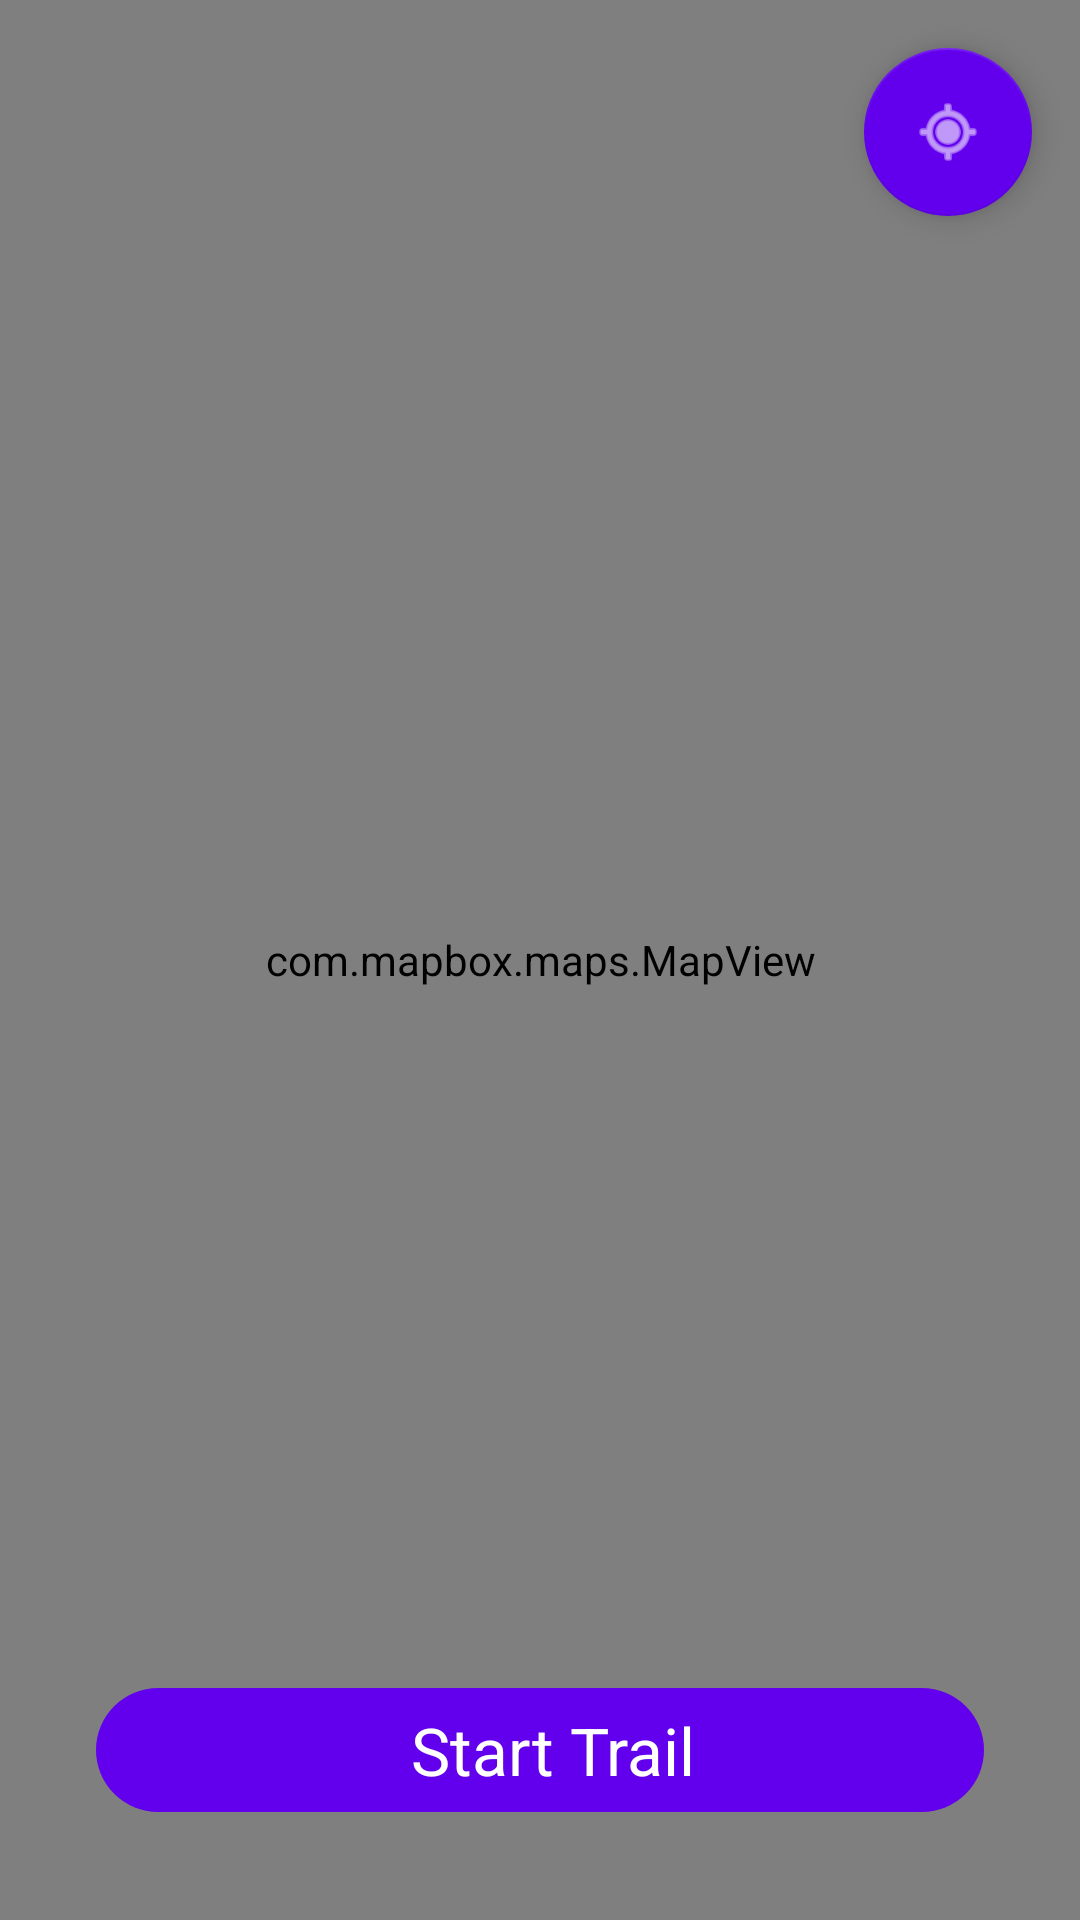

Icon bounding boxes for this 1080×1920 phone screenshot, format bbox=(x1, y1, x2, y2):
Center on my location: bbox=(864, 48, 1032, 216)
